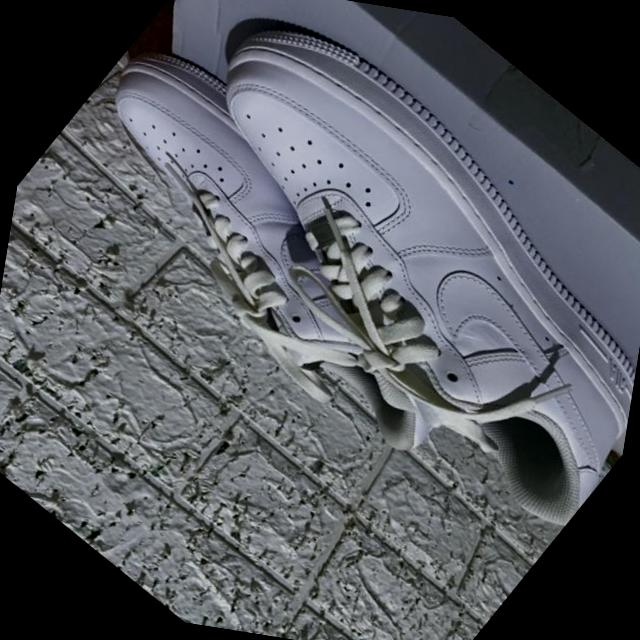nike_original_airforce: (76, 0, 640, 546), (5, 11, 568, 484)
